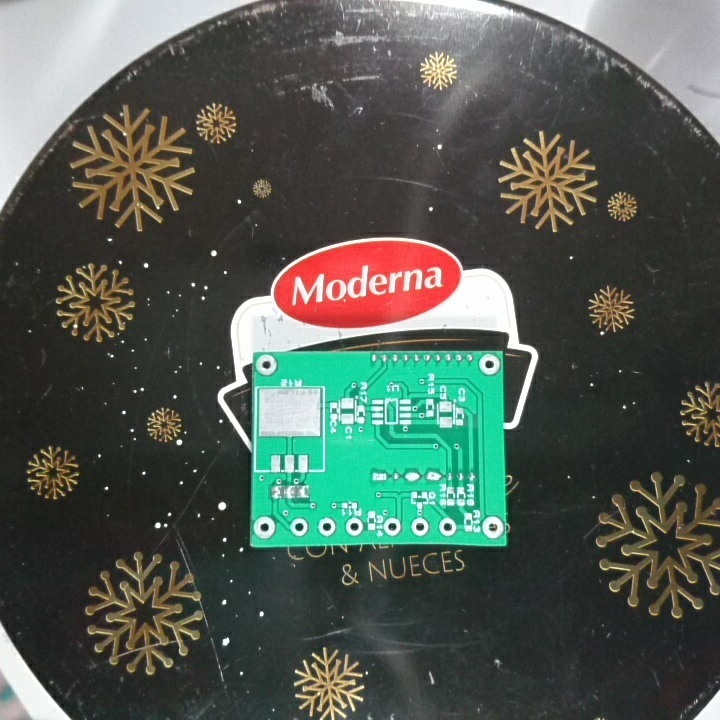F: (477, 352, 502, 378), (254, 351, 279, 377), (252, 514, 277, 540), (481, 514, 504, 540), (435, 517, 459, 540), (343, 515, 365, 538), (288, 515, 309, 537), (316, 516, 337, 538), (409, 516, 430, 538), (382, 515, 402, 537)
P: (368, 469, 391, 484), (402, 469, 422, 486), (425, 469, 442, 486)
